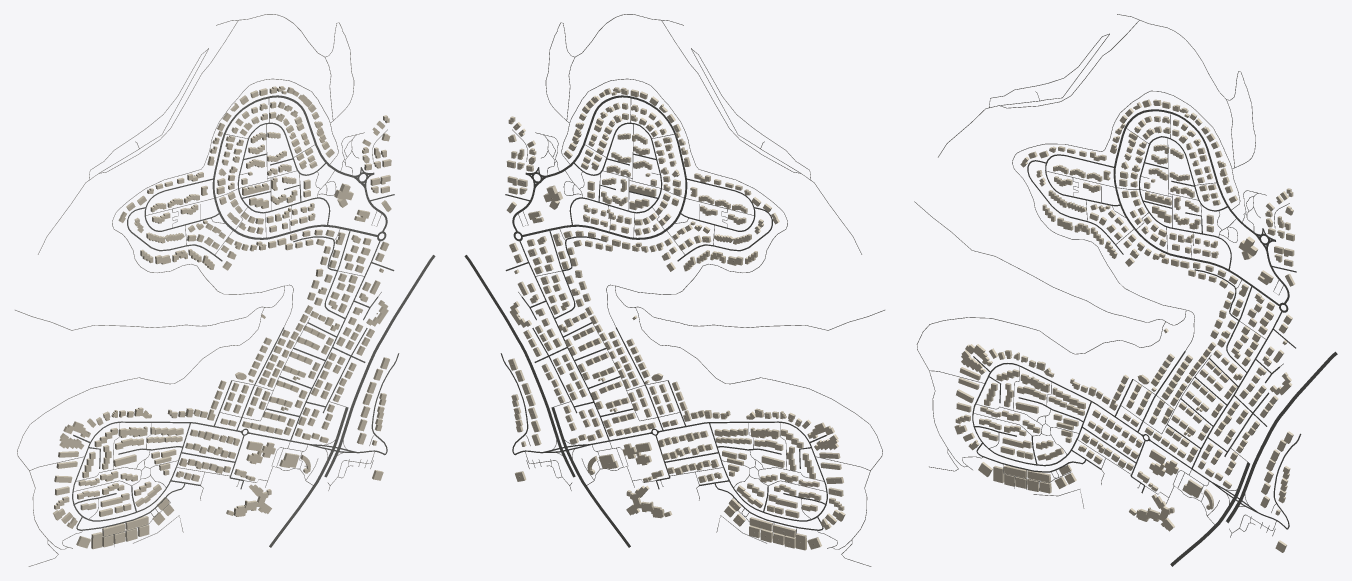
File: historic-palestine-09_24_3514_3180.glb
The picture shows the model from 3 angles, left to right: view 1: azimuth 30°, elevation 25°; view 2: azimuth 150°, elevation 25°; view 3: azimuth 330°, elevation 25°; orthographic projection.
Visible parts, largest first — view 1: Road הדרור, Road הראל.003, Road .009, Building_.363, Road הזמיר; view 2: Road הדרור, Road הראל.003, Building_.363, Road .009, Road הזמיר; view 3: Road הדרור, Road הראל.003, Road .009, Building_.363, Road הזמיר.
Boxes of the visible parts, x1,y1,x2,y2 form: Road הדרור: (212, 95, 354, 239); Road הראל.003: (338, 255, 435, 448); Road .009: (112, 78, 330, 294); Building_.363: (233, 484, 271, 516); Road הזמיר: (237, 122, 330, 225); Road הדרור: (545, 95, 687, 239); Road הראל.003: (464, 255, 561, 447); Building_.363: (626, 485, 664, 518); Road .009: (569, 78, 787, 294); Road הזמיר: (569, 122, 662, 225); Road הדרור: (1113, 109, 1255, 285); Road הראל.003: (1239, 351, 1337, 500); Road .009: (1012, 90, 1231, 309); Building_.363: (1136, 494, 1174, 531); Road הזמיר: (1139, 136, 1231, 270).
Bounding box in the file's own units: 1101 × 1343 × 13.6.
